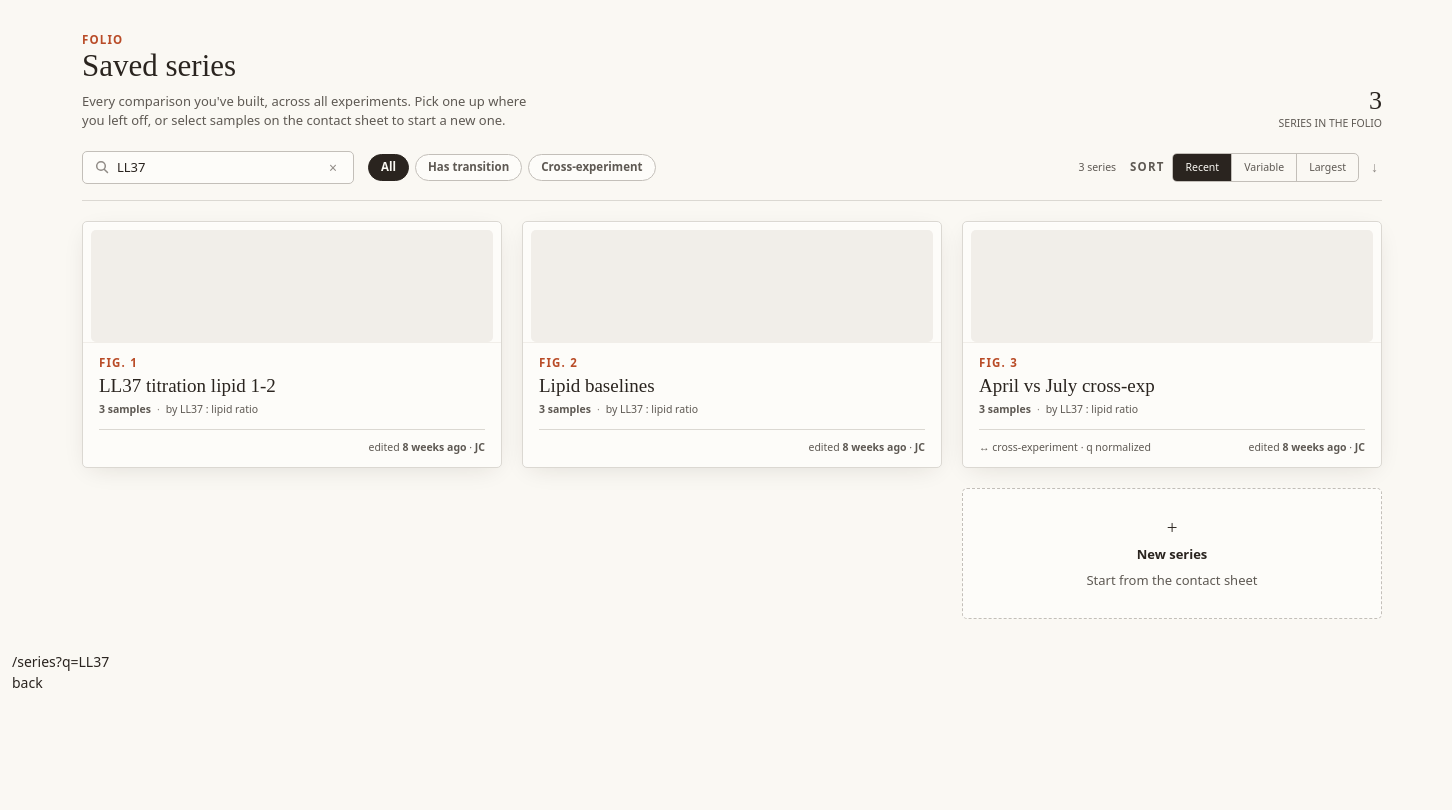
Test: SeriesFolioPage URL round-trip (FOL P2-3) › the SearchInput inline clear also clears ?q=
Click the button named "Clear search". click: (333, 168)
box: [321,156,345,180]
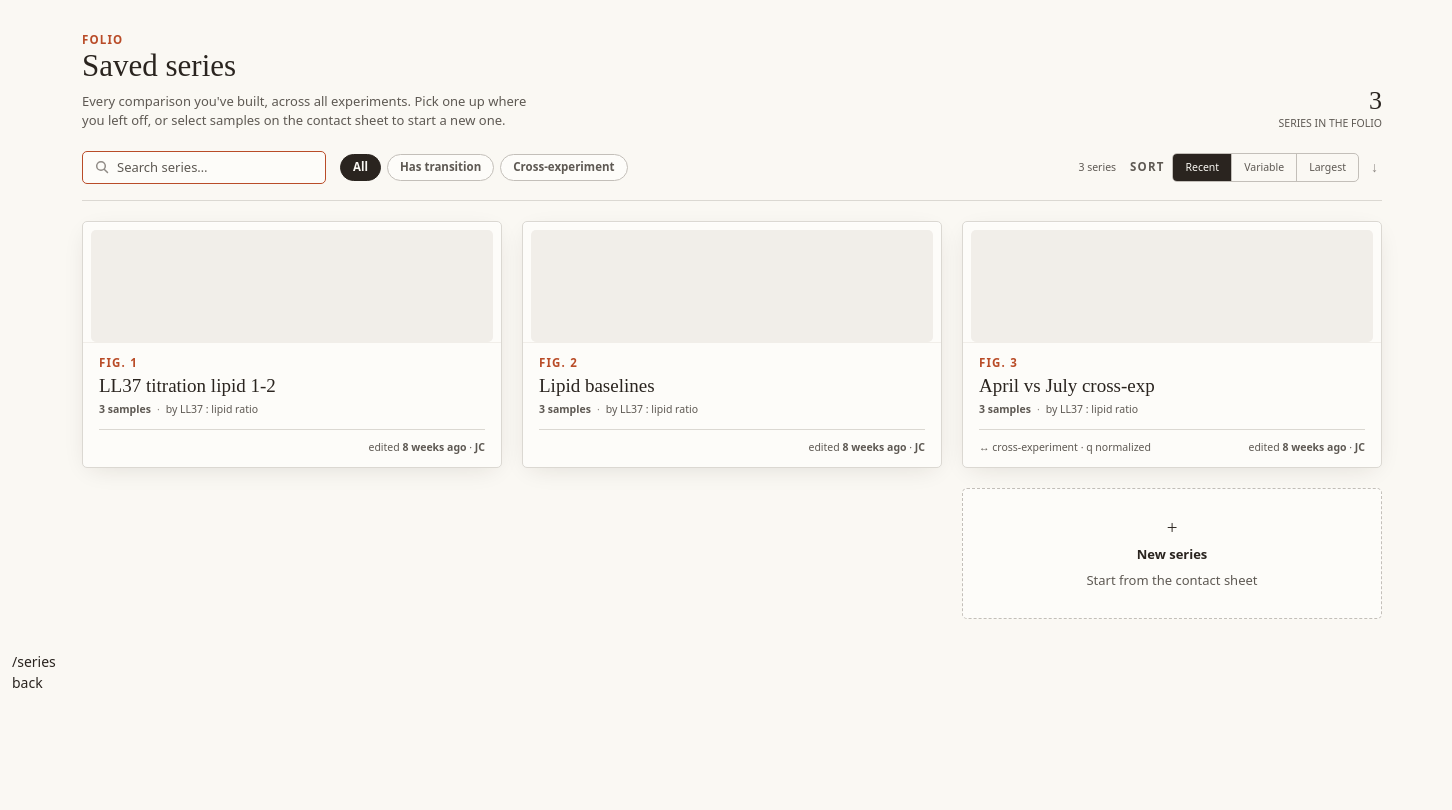
Expected: the text with test id "loc" reads "/series", [12,652,56,671]
Expected: the field is empty, [117,158,313,177]
